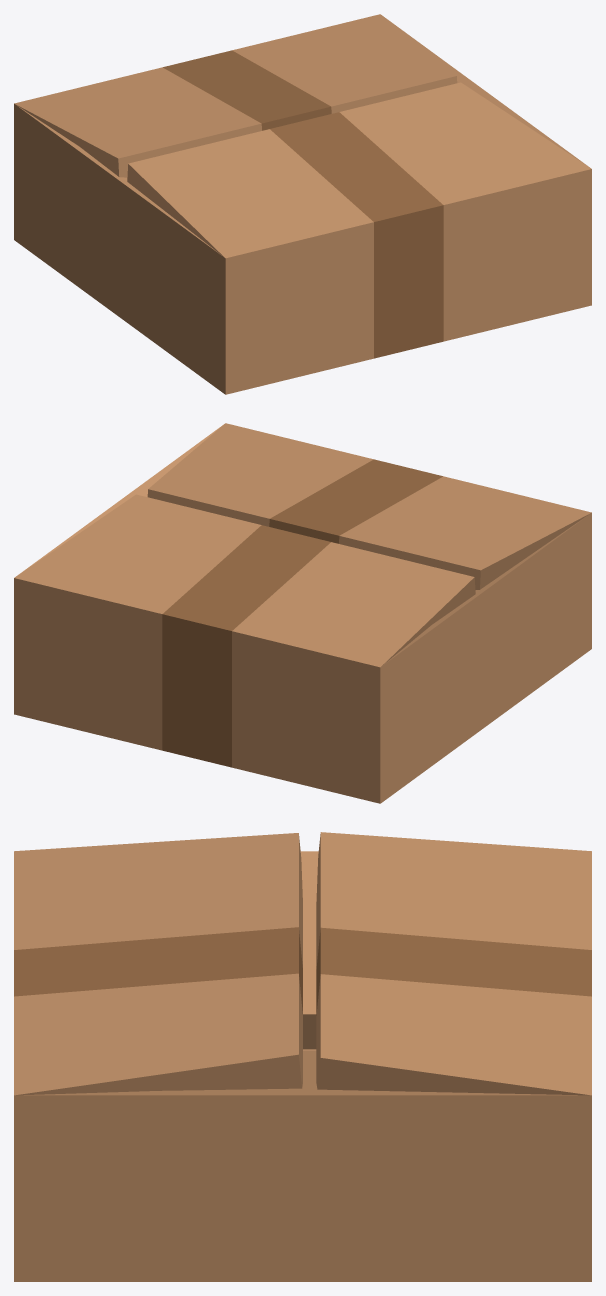
Rendered from BoxClosed4.fbx.
3 renders of one model, top to bottom at view 1: azimuth 30°, elevation 25°; view 2: azimuth 150°, elevation 25°; view 3: azimuth 270°, elevation 25°, orthographic. The views are drawn at different scales.
Visible parts, largest first — view 1: BoxClosed4; view 2: BoxClosed4; view 3: BoxClosed4.
Boxes of the visible parts, <box> form: BoxClosed4: <box>14,14,591,394</box>; BoxClosed4: <box>14,423,591,803</box>; BoxClosed4: <box>14,832,591,1281</box>.
Size of the model in its own units: 63.12 by 25.23 by 63.12.
Materials: 1 (1 with a texture image).
